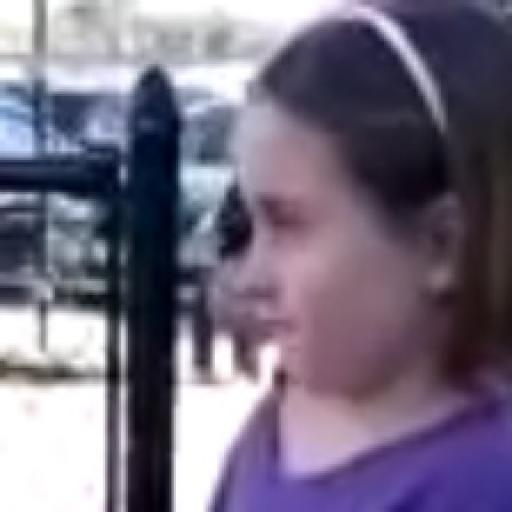Autism: (128, 60, 512, 478)
